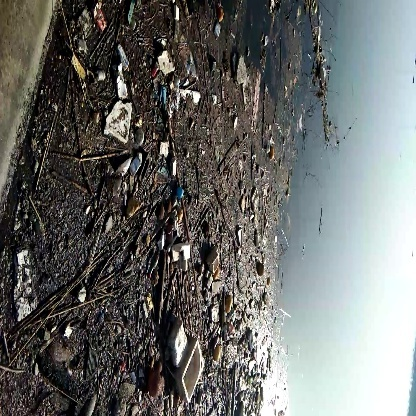plastic-garbage: (165, 313, 208, 406)
